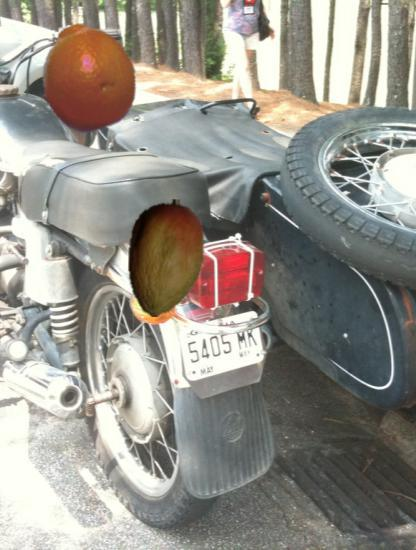Papaya: (107, 199, 226, 318)
Tangelo: (32, 22, 143, 133)
